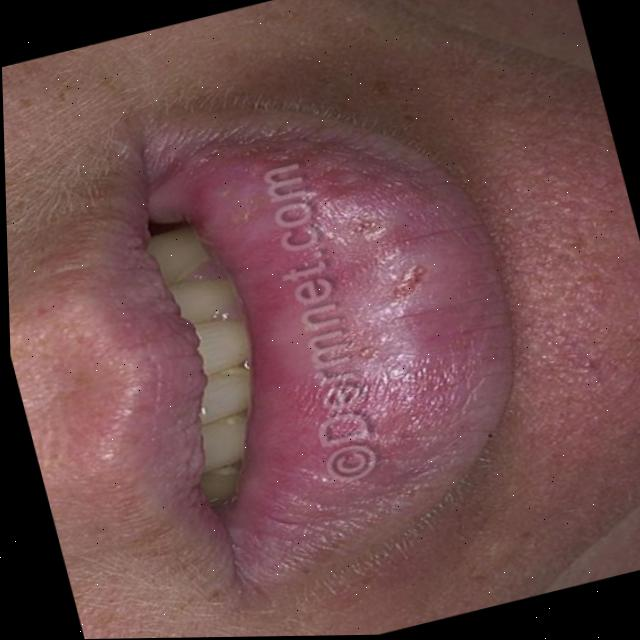Shingles: (283, 128, 517, 495)
